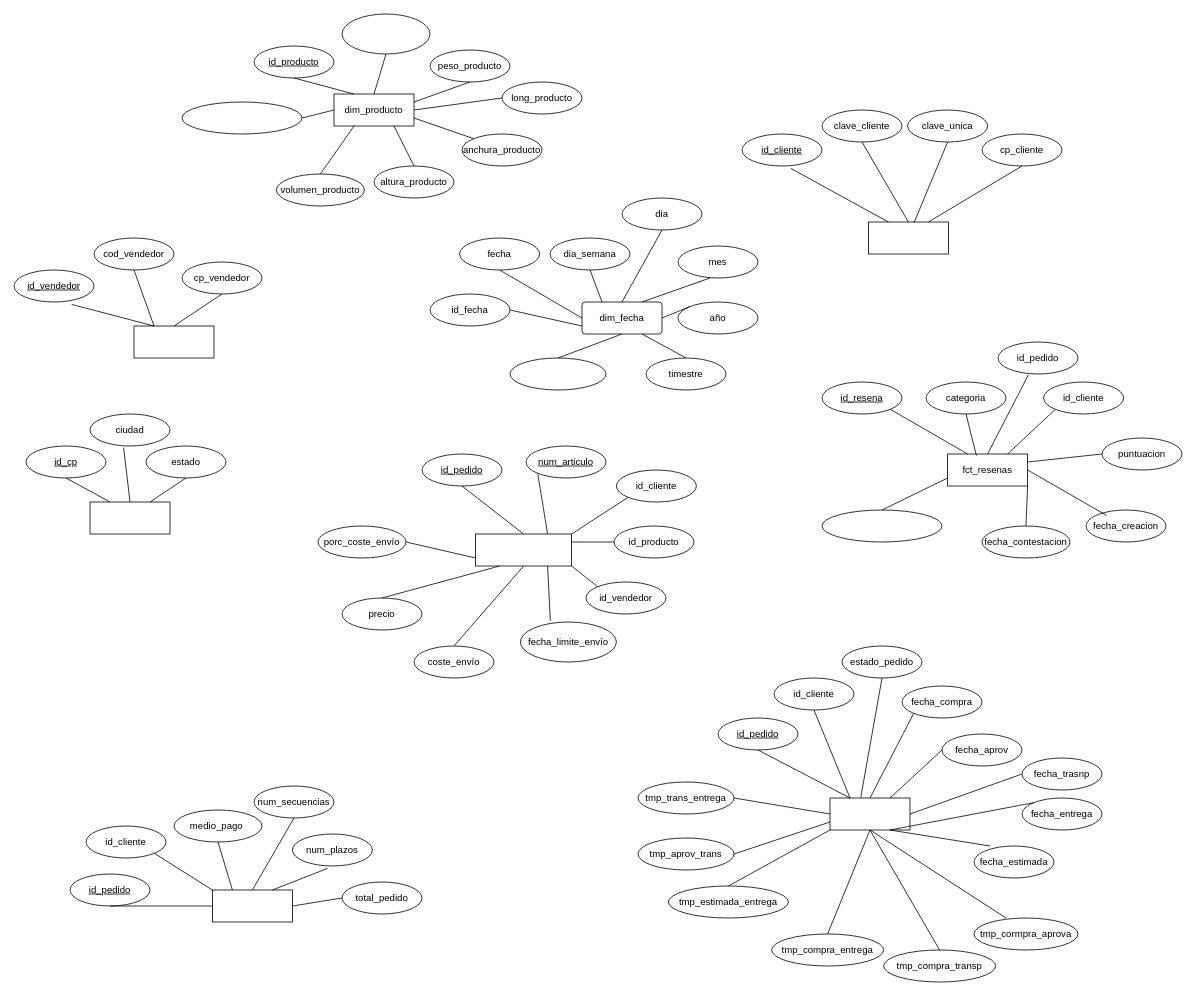
Some shapes in this 1196 by 996 pixel diagram are drawn without their labels. The box of each missing label's shape, as (x1, y1, x2, y2) in pixels:
cat_producto: (341, 13, 430, 54)
dim_clientes: (868, 221, 948, 254)
dim_geografía: (89, 501, 170, 534)
dim_vendedores: (133, 325, 214, 358)
es_fin_de_semana: (509, 357, 606, 390)
fct_desglose_pedido: (475, 533, 572, 566)
fct_logística: (829, 797, 910, 830)
fct_pagos: (212, 889, 292, 922)
rel_volumen_coste_envio: (181, 101, 302, 134)
tmp_contestacion: (821, 509, 942, 542)
